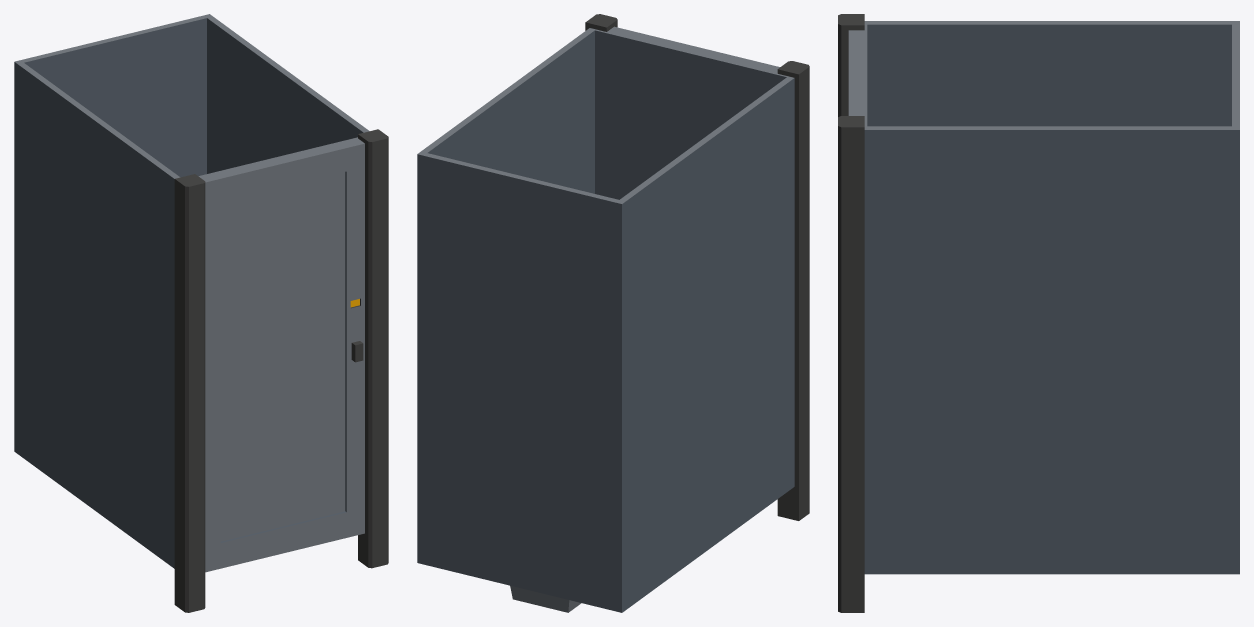
Rendered from toilet_stall.glb.
The picture shows the model from 3 angles, left to right: view 1: azimuth 30°, elevation 25°; view 2: azimuth 150°, elevation 25°; view 3: azimuth 270°, elevation 25°; orthographic projection. The views are drawn at different scales.
Parts seen in each view (by area): view 1: toilet_stall; view 2: toilet_stall; view 3: toilet_stall.
Boxes of the visible parts, x1,y1,x2,y2 form: toilet_stall: (14, 14, 388, 612); toilet_stall: (417, 14, 809, 612); toilet_stall: (838, 14, 1239, 612).
Size of the model in its own units: 1 by 2 by 1.5.
